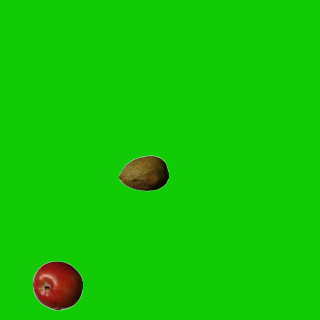Apple Braeburn: (32, 260, 82, 310)
Papaya: (118, 148, 168, 198)
